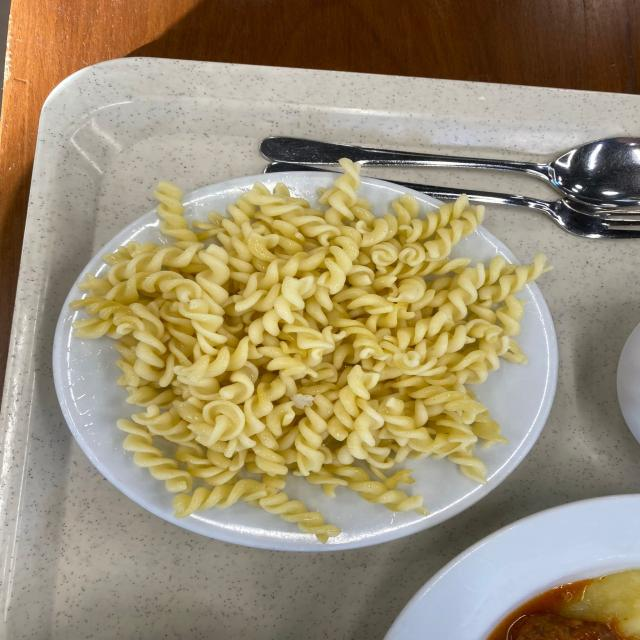ana_yemek: (66, 160, 555, 544)
